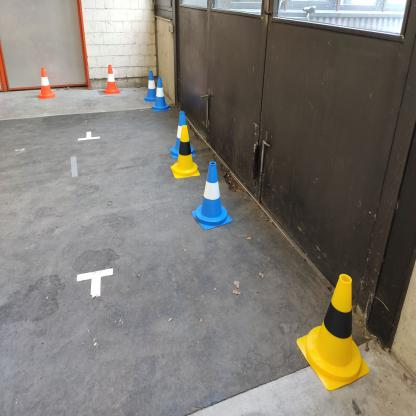Cones_small_blue: (194, 152, 234, 236), (152, 76, 172, 116), (144, 66, 156, 103)
Cones_small_orange: (34, 63, 57, 102), (102, 62, 126, 97)
Cones_small_yellow: (296, 264, 374, 410)
